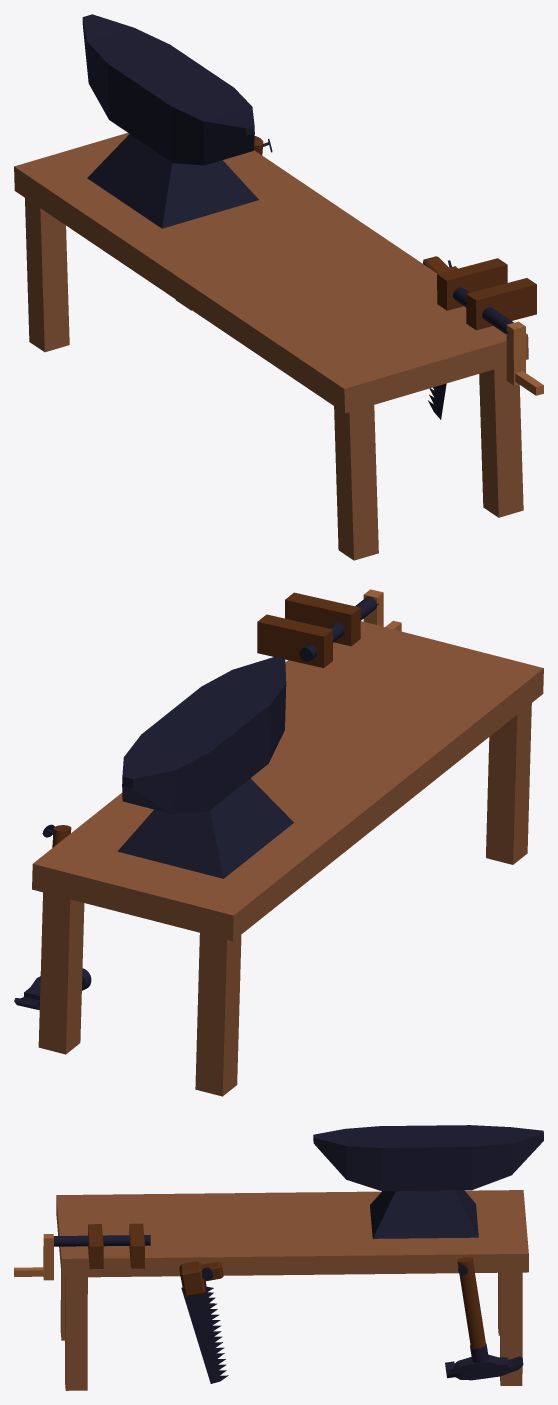
The model's file is CraftingTable.fbx.
The picture shows the model from 3 angles, top to bottom: view 1: azimuth 30°, elevation 25°; view 2: azimuth 150°, elevation 25°; view 3: azimuth 270°, elevation 25°; orthographic projection. The views are drawn at different scales.
Visible parts, largest first — view 1: Cube.015; view 2: Cube.015; view 3: Cube.015.
Boxes of the visible parts, x1,y1,x2,y2 form: Cube.015: (14,14,543,560); Cube.015: (14,589,543,1096); Cube.015: (14,1125,543,1390).
Bounding box in the file's own units: 6.67 × 8.12 × 17.6.
